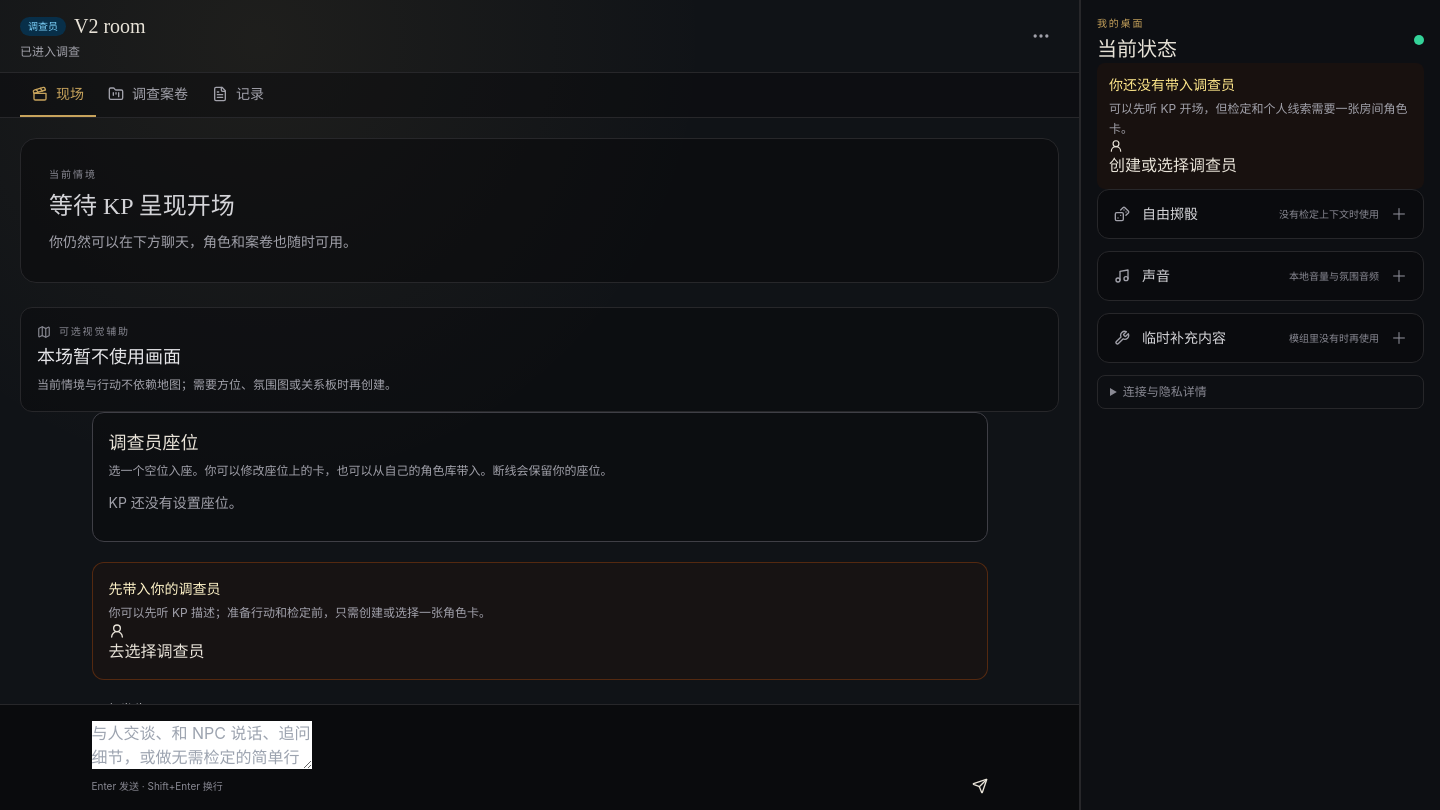
RoomViewV2 board creation › exports every visible record even while the on-screen record is filtered
Later steps or results of the test are not shown.
Click the button "记录": click(238, 95) [200,73,276,117]
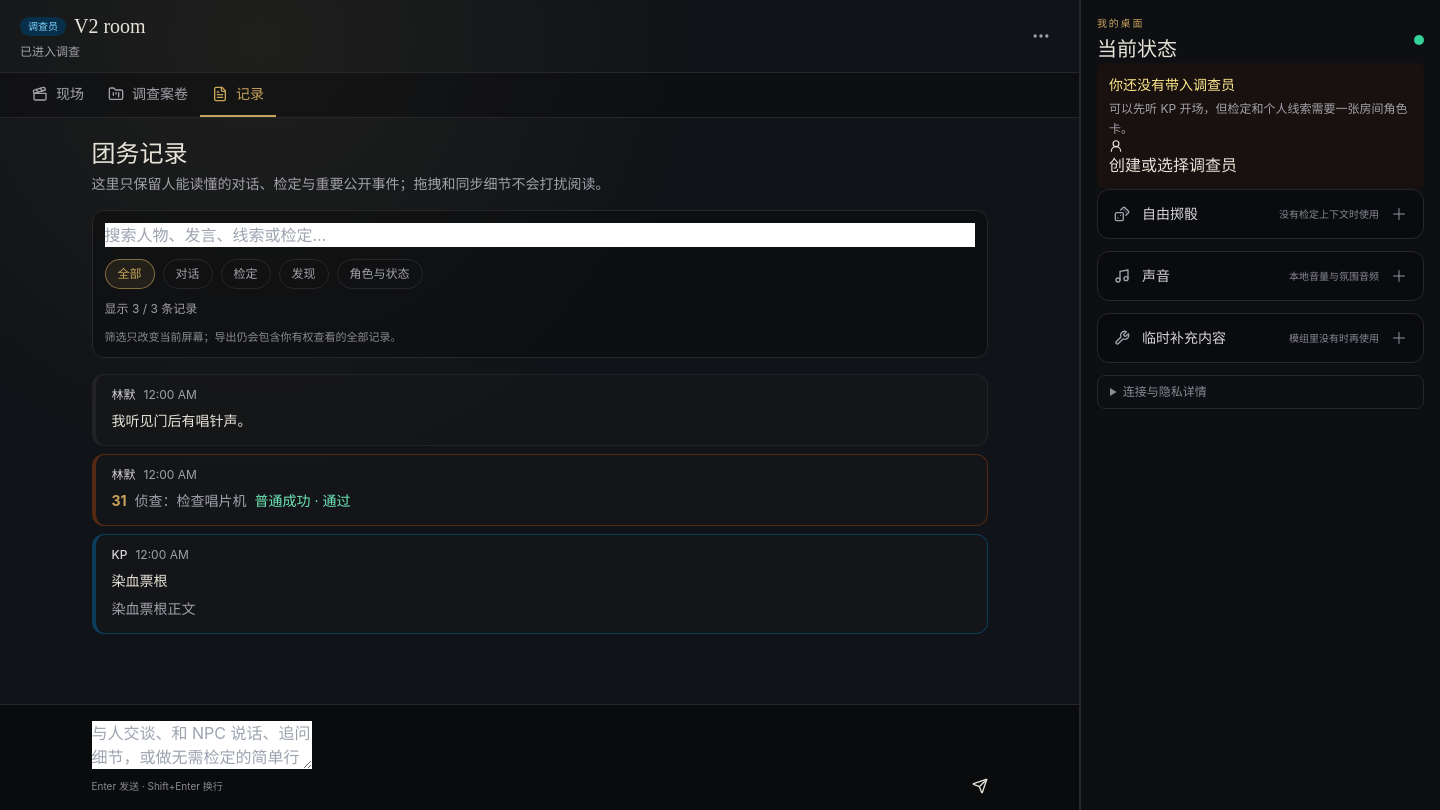
Click the button "对话": click(188, 274) [162,259,212,289]
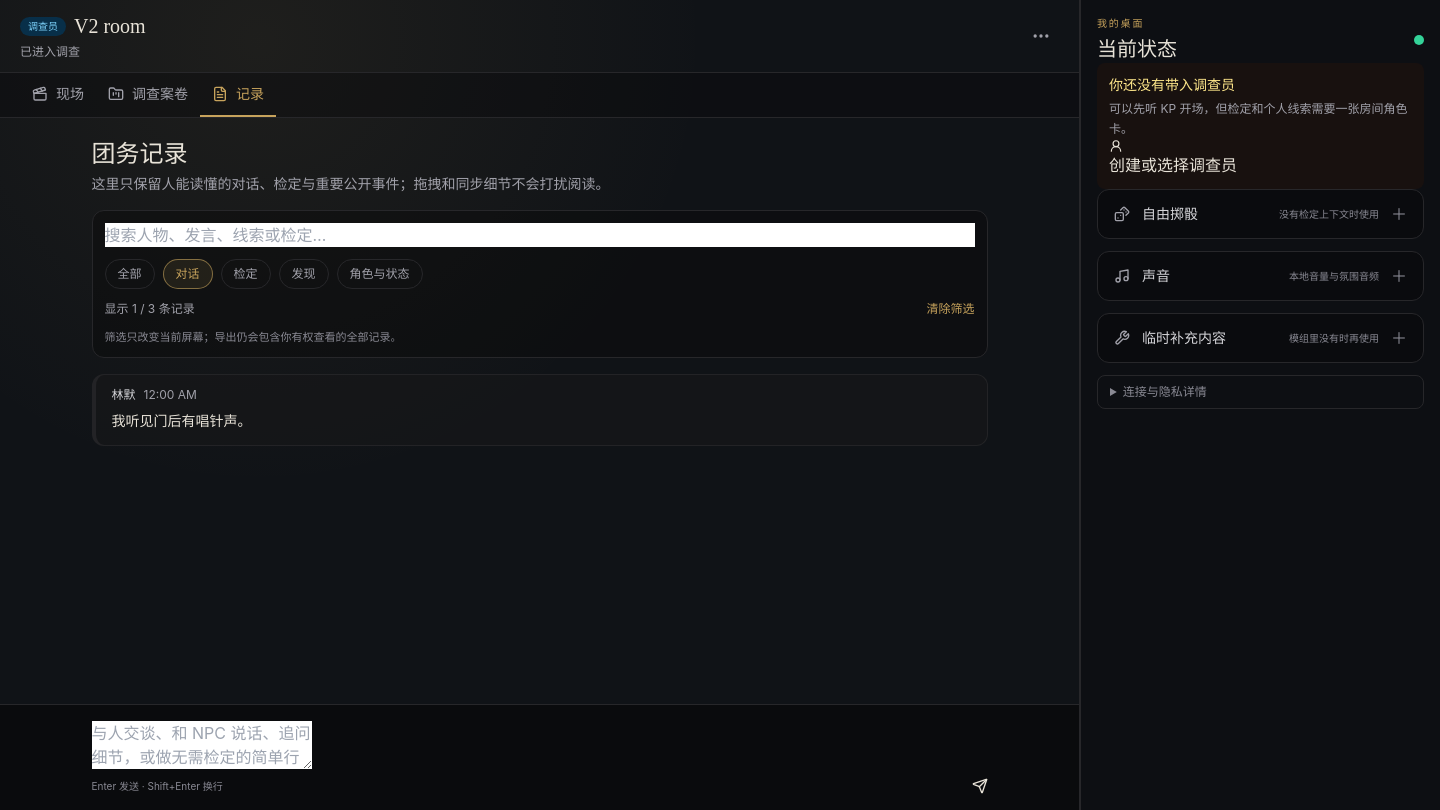
expect the text "染血票根" is gone: met
